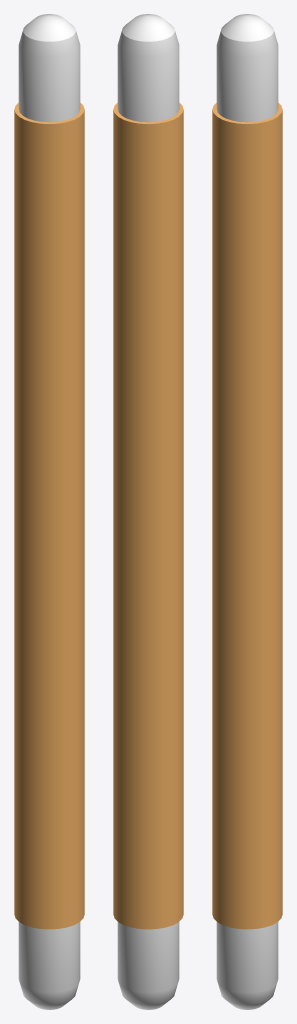
Rendered from Wepon.fbx.
3 views of the same model, side by side, from view 1: azimuth 90°, elevation 25°; view 2: azimuth 150°, elevation 25°; view 3: azimuth 270°, elevation 25° (orthographic).
Parts seen in each view (by area): view 1: Wepon; view 2: Wepon; view 3: Wepon.
Part boxes in pixels (x1,y1,x2,y2): Wepon: (14,14,84,1009); Wepon: (113,14,183,1009); Wepon: (212,14,282,1009).
Size of the model in its own units: 15.81 by 246 by 15.81.
